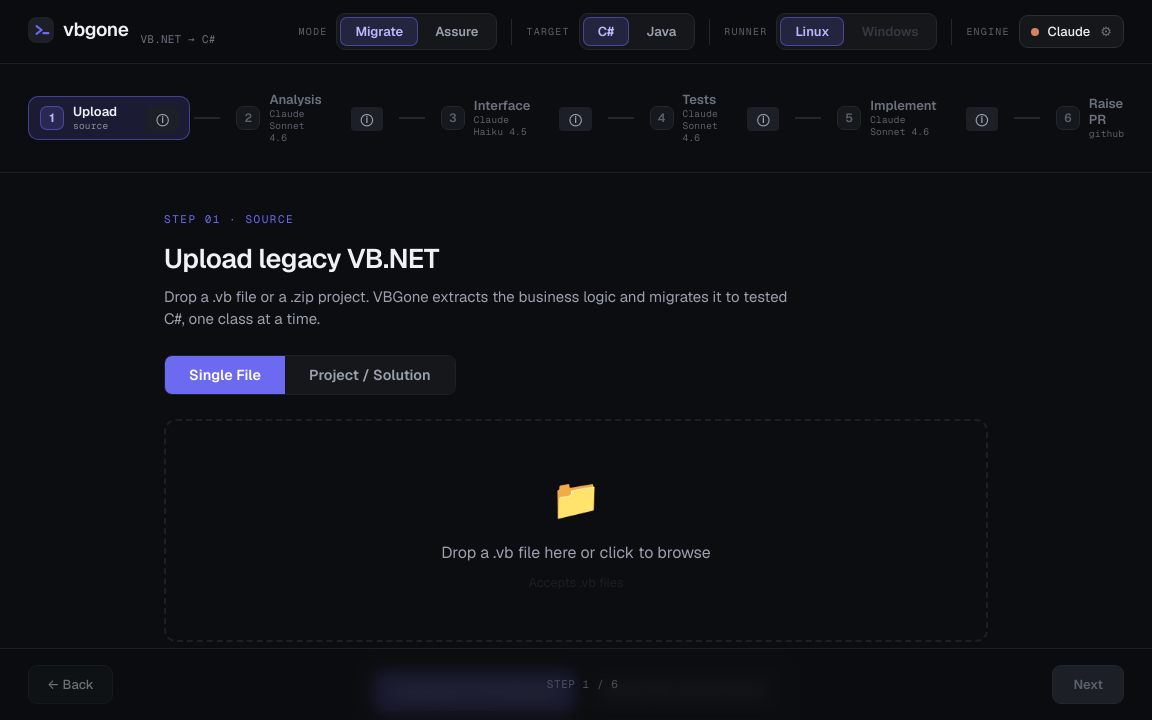
WizardShell — mode-aware stepper › restores the six Migrate steps when switching back
This screenshot has width=1152, height=720.
Click the button "Assure" at (457, 32), box [420,17,494,46]
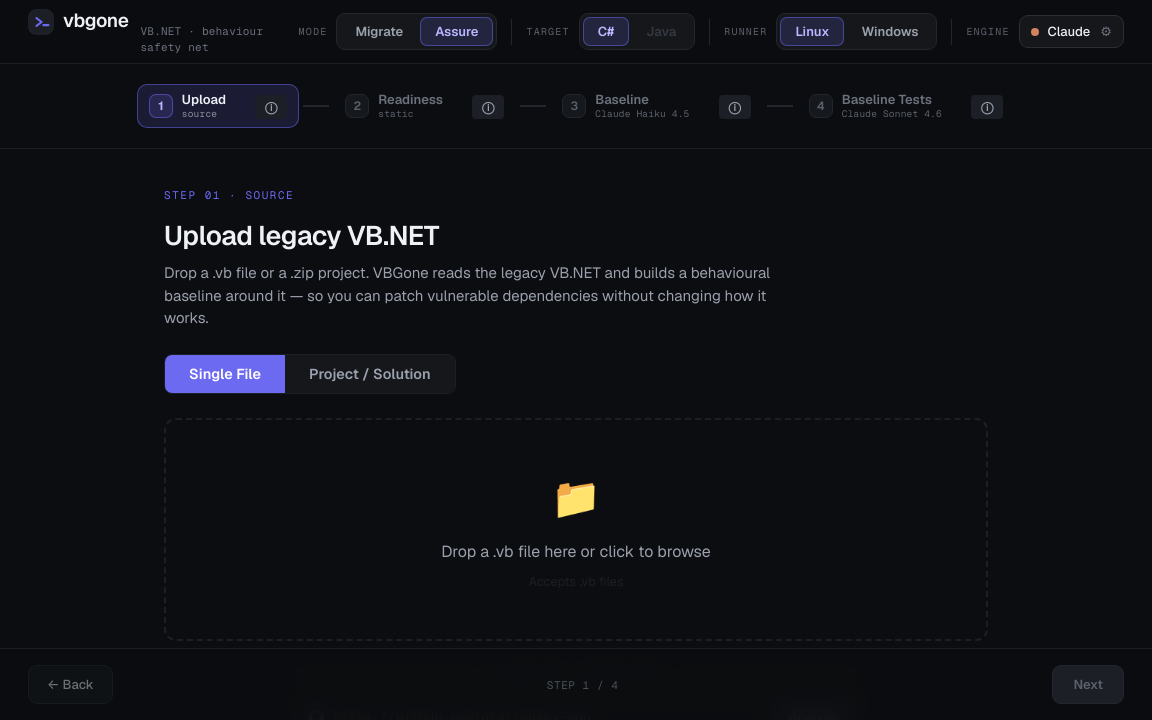
Click the button "Migrate" at (379, 32), box [340,17,418,46]
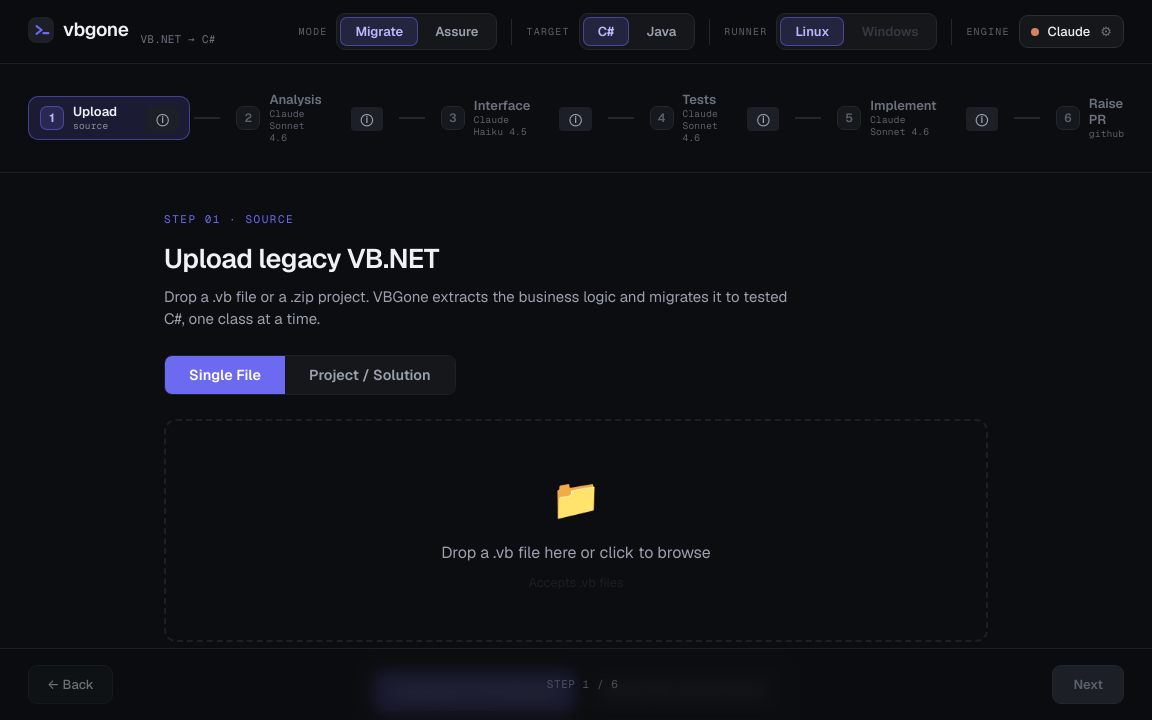
Now the text "Interface" is shown, box [474,98,530,114]
Now the text "Raise PR" is shown, box [1089,96,1124,128]
Now the text with test id "step-counter" reads "STEP 1 / 6", box [547,676,618,693]
